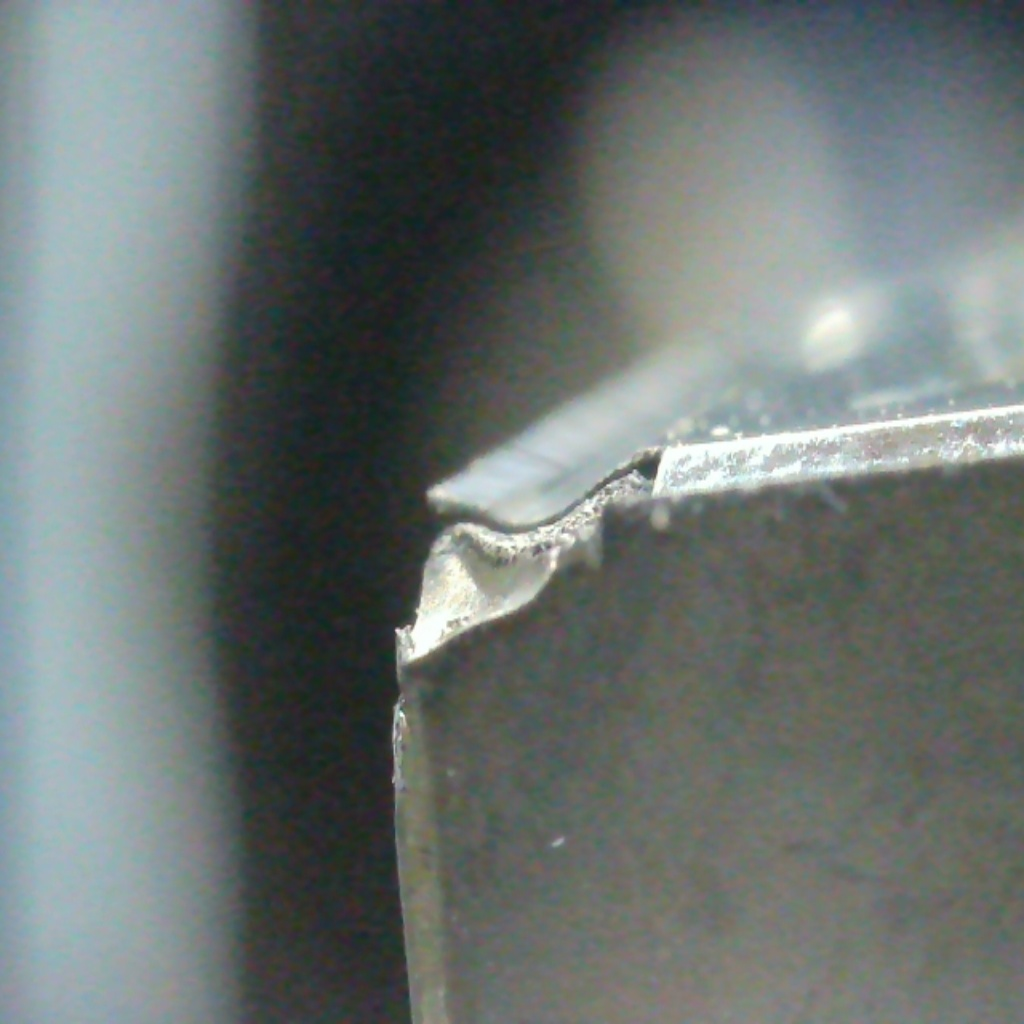flank_wear: (401, 523, 564, 661)
